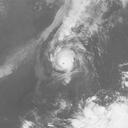cyclone: (50, 48, 75, 73)
